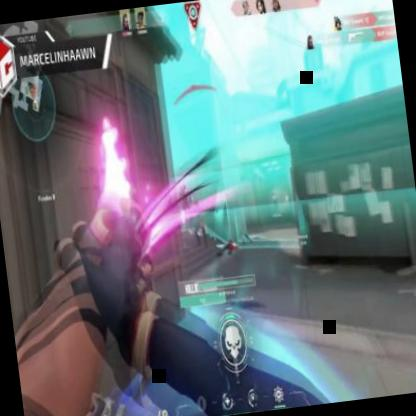enemy: (188, 198, 210, 251), (177, 182, 193, 224)
enemy_head: (193, 200, 200, 212), (181, 182, 187, 191)
